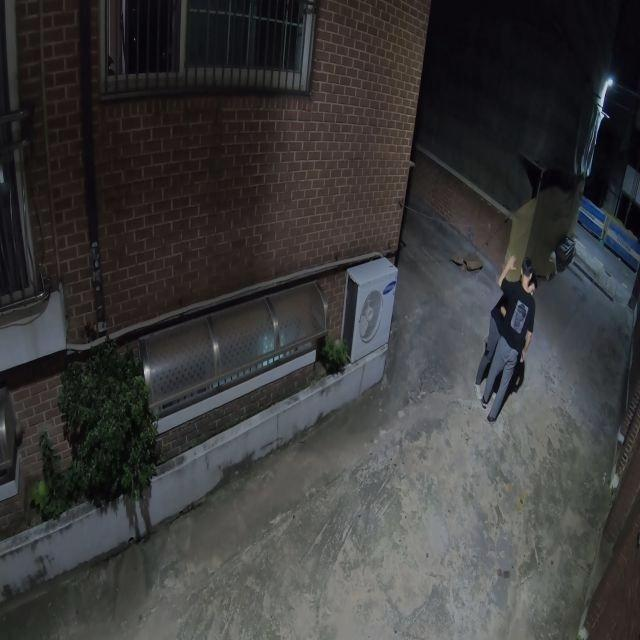fight: (472, 245, 538, 423)
